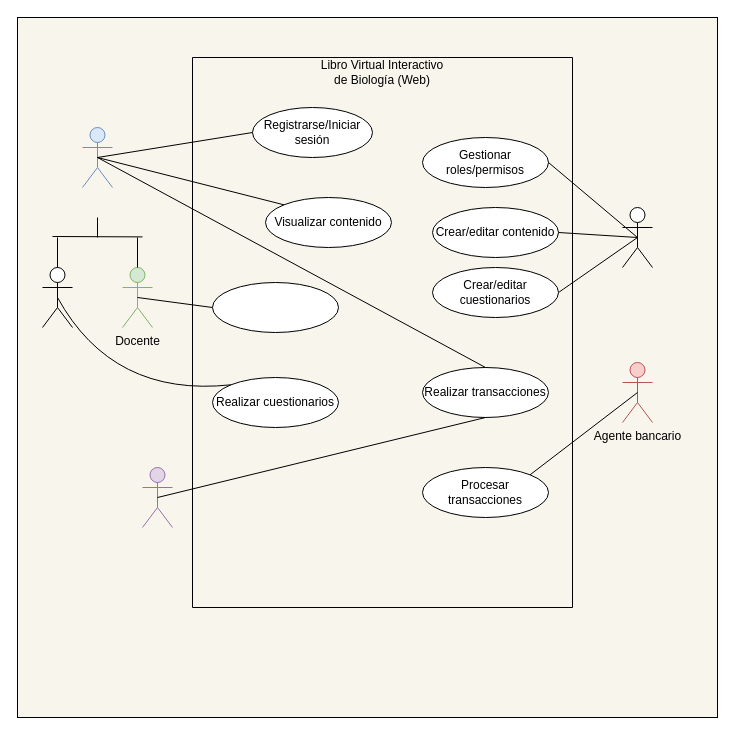
This 735x735 diagram has some shape labels left out. Each missing label, with the centre of its shape:
"Administrador" goes at point (637, 237).
"Alumno" goes at point (57, 297).
"Descargar/Visualizar reportes alumnos" goes at point (275, 307).
"Institución" goes at point (157, 497).
"Usuario" goes at point (97, 157).
